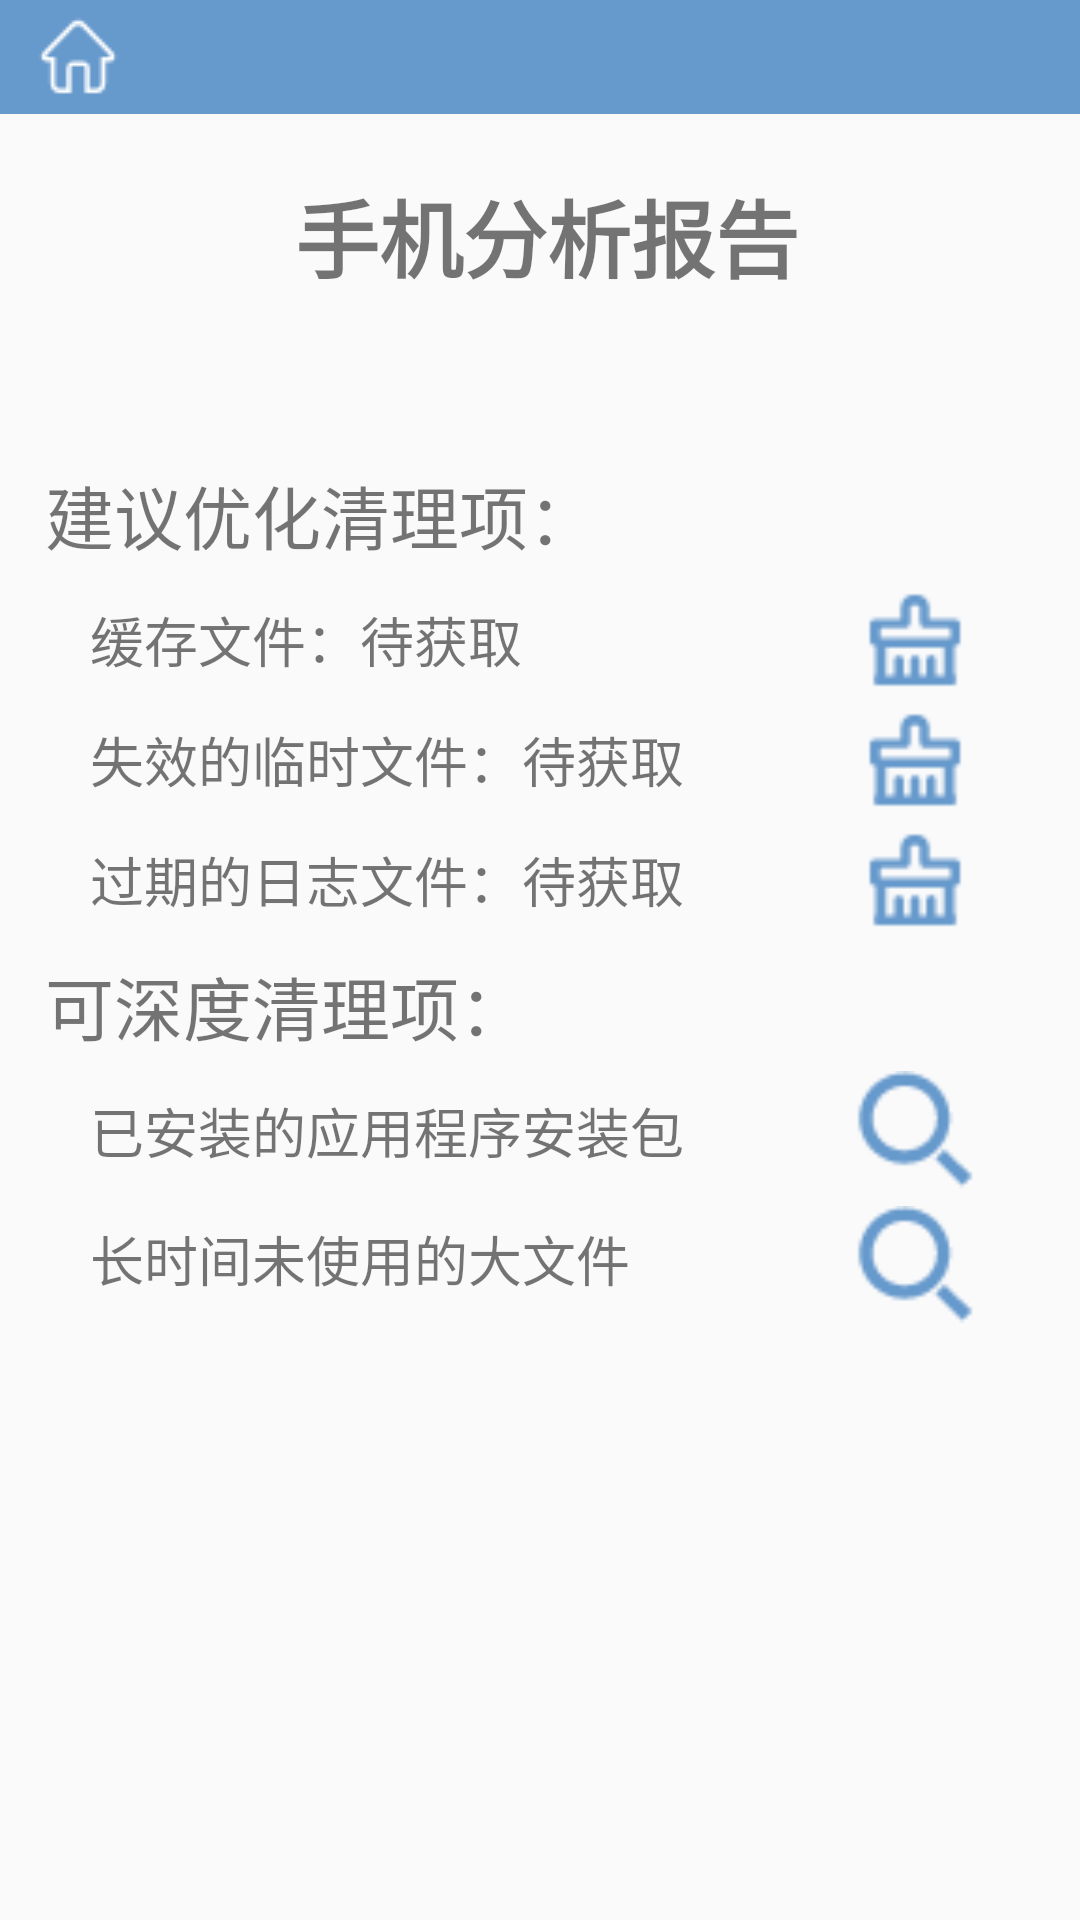

Screen size 1080w x 1920h. Icon name, then its box in pixels as (x1, y1, x2, y2):
clean: (869, 594, 961, 686), (869, 714, 961, 806), (869, 834, 961, 926)
home: (41, 20, 115, 94)
search: (858, 1071, 972, 1186), (858, 1206, 972, 1321)
